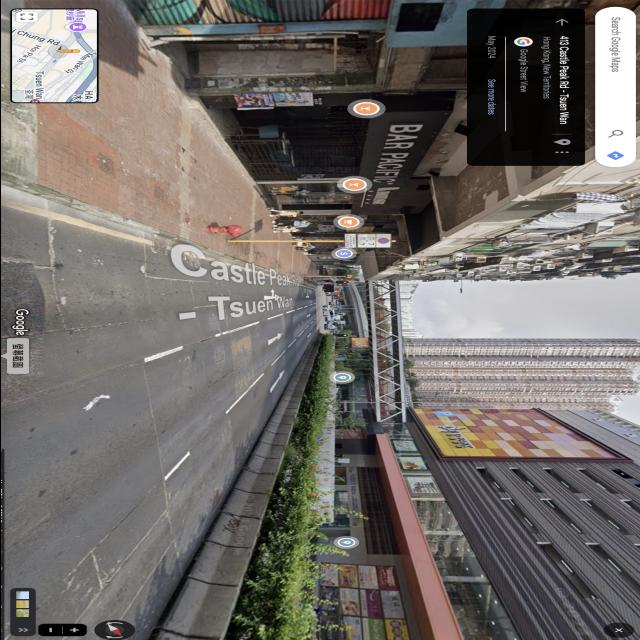Order-Sign: (356, 234, 391, 248), (344, 234, 354, 248)
